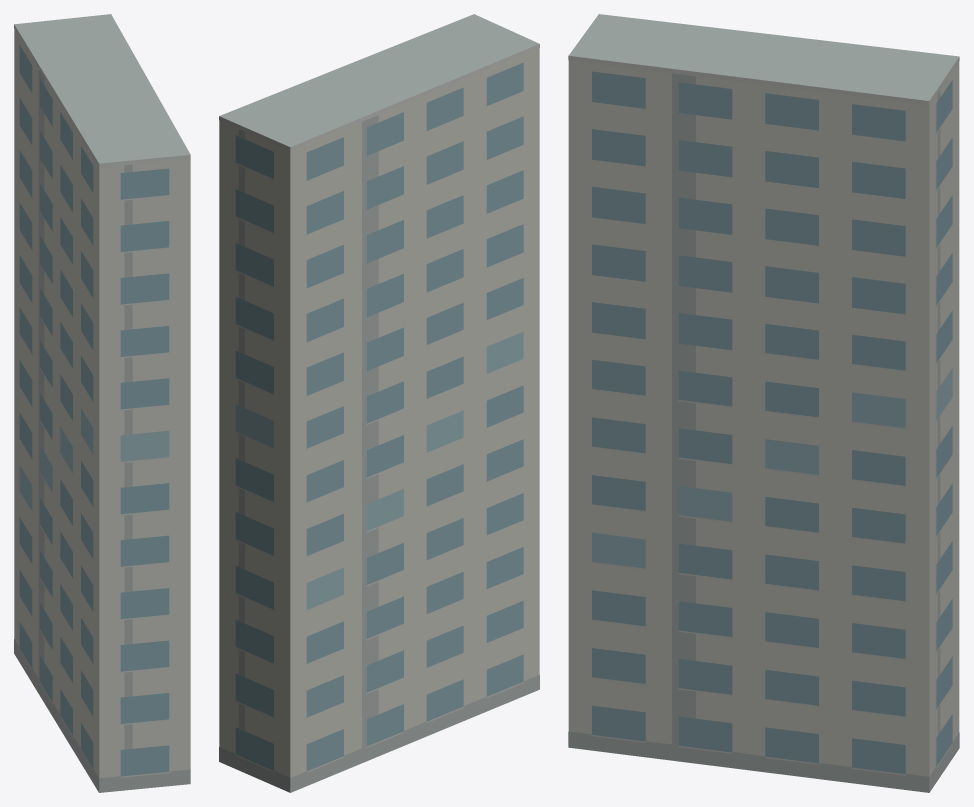
File: survey-upis-32631187.glb
The picture shows the model from 3 angles, left to right: view 1: azimuth 30°, elevation 25°; view 2: azimuth 150°, elevation 25°; view 3: azimuth 270°, elevation 25°; orthographic projection. The views are drawn at different scales.
Visible parts, largest first — view 1: survey-upis-32631187.tmp; view 2: survey-upis-32631187.tmp; view 3: survey-upis-32631187.tmp.
Part boxes in pixels (x1=…): survey-upis-32631187.tmp: x1=14, y1=14, x2=190, y2=792; survey-upis-32631187.tmp: x1=219, y1=14, x2=539, y2=792; survey-upis-32631187.tmp: x1=568, y1=14, x2=959, y2=792.
Size of the model in its own units: 9.89 by 36.6 by 18.76.
